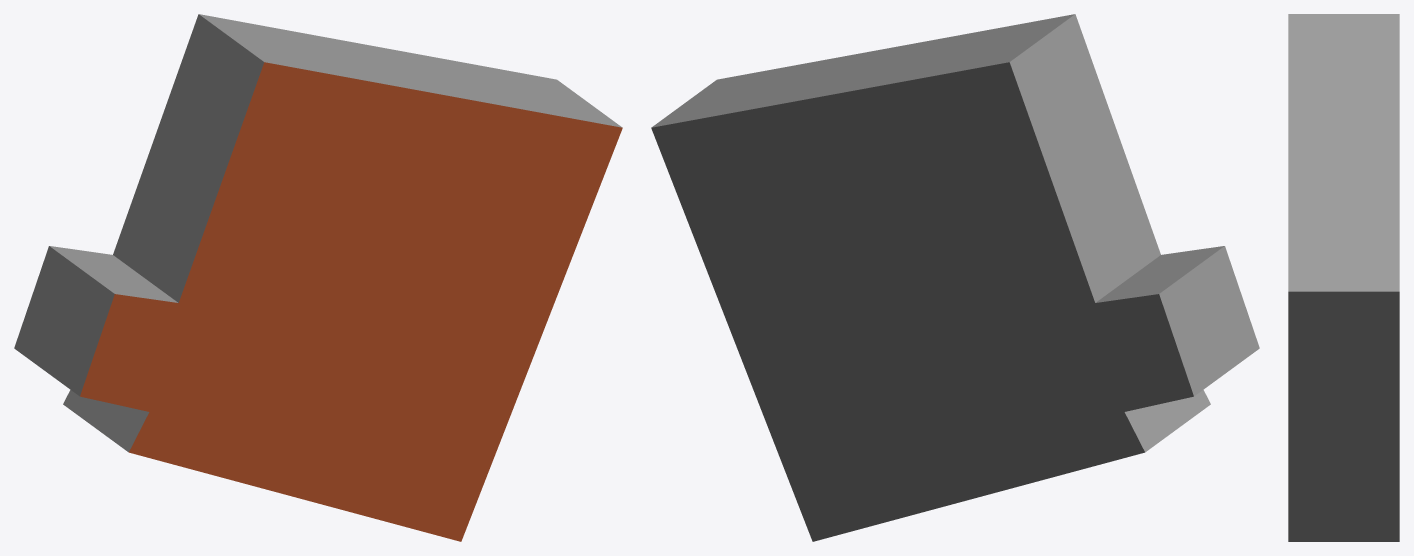
The model's file is construction_4700_assumed_A_Casa_h6m.obj.
3 views of the same model, side by side, from view 1: azimuth 30°, elevation 25°; view 2: azimuth 150°, elevation 25°; view 3: azimuth 270°, elevation 25° (orthographic). The views are drawn at different scales.
Visible parts, largest first — view 1: construction_4700_assumed_A_Casa; view 2: construction_4700_assumed_A_Casa; view 3: construction_4700_assumed_A_Casa.
Boxes of the visible parts, x1,y1,x2,y2 form: construction_4700_assumed_A_Casa: (14,14,622,541); construction_4700_assumed_A_Casa: (651,14,1259,541); construction_4700_assumed_A_Casa: (1288,14,1399,541).
Size of the model in its own units: 28.58 by 26.55 by 6.
